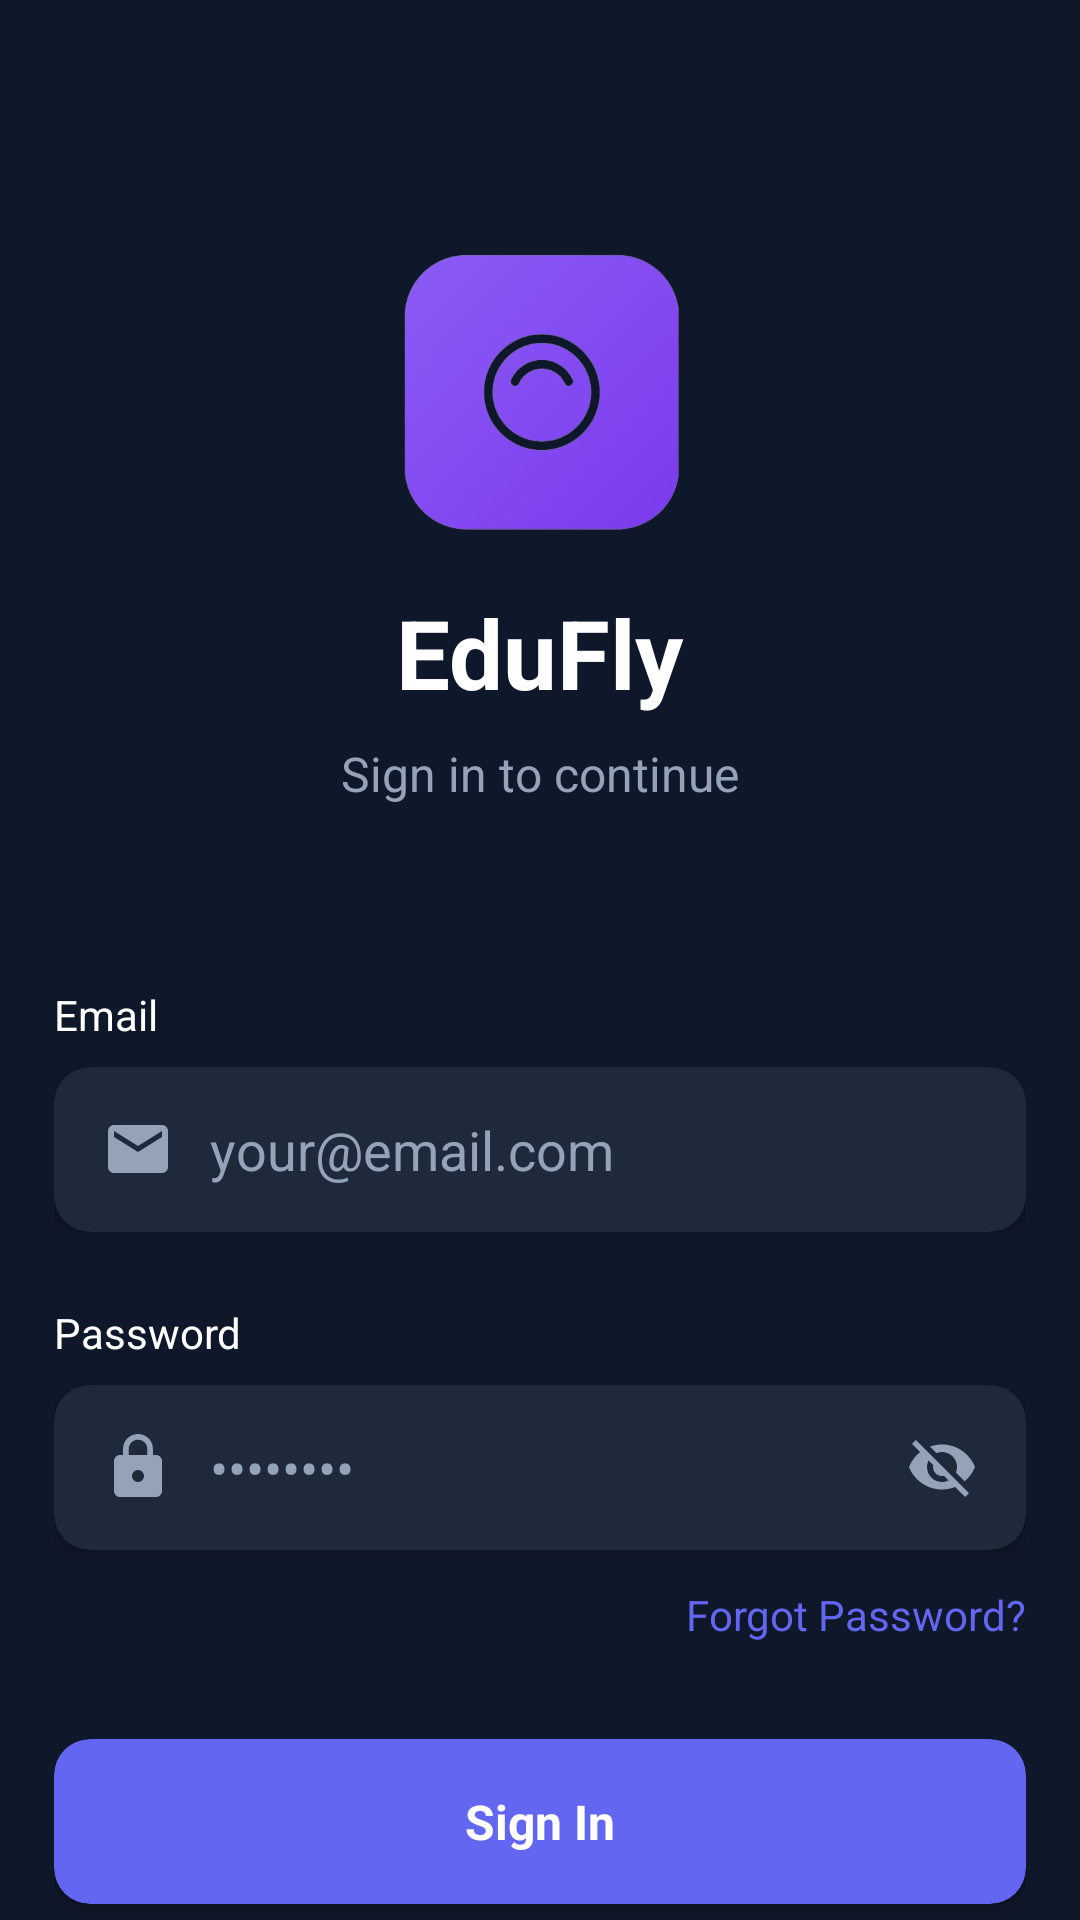

Point at icon controls on the screen. Image size 1080*1920, points as point (x, y).
lock: point (138, 1465)
visibility off: point (942, 1468)
